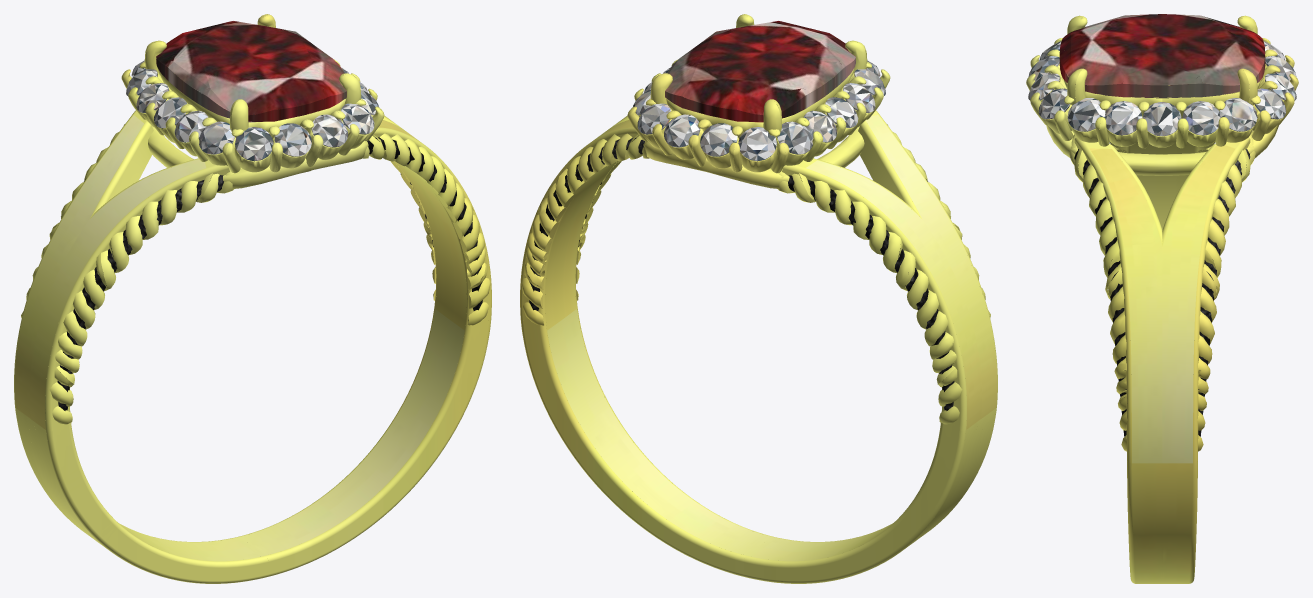
The model's file is ring13.glb.
3 views of the same model, side by side, from view 1: azimuth 30°, elevation 25°; view 2: azimuth 150°, elevation 25°; view 3: azimuth 270°, elevation 25° (orthographic).
Parts seen in each view (by area): view 1: body, core, diamond, black; view 2: body, core, diamond, black; view 3: body, core, diamond, black.
Part boxes in pixels (x1,y1,x2,y2): body: (14, 14, 491, 583); core: (156, 21, 346, 122); diamond: (126, 60, 379, 161); black: (57, 137, 482, 410); body: (520, 14, 997, 583); core: (665, 21, 855, 122); diamond: (633, 60, 885, 161); black: (528, 137, 954, 410); body: (1026, 15, 1298, 583); core: (1059, 14, 1265, 98); diamond: (1028, 41, 1296, 136); black: (1074, 149, 1250, 436).
Bounding box in the file's own units: 20.26 × 22.31 × 10.61.
4 materials, 4 textured.
